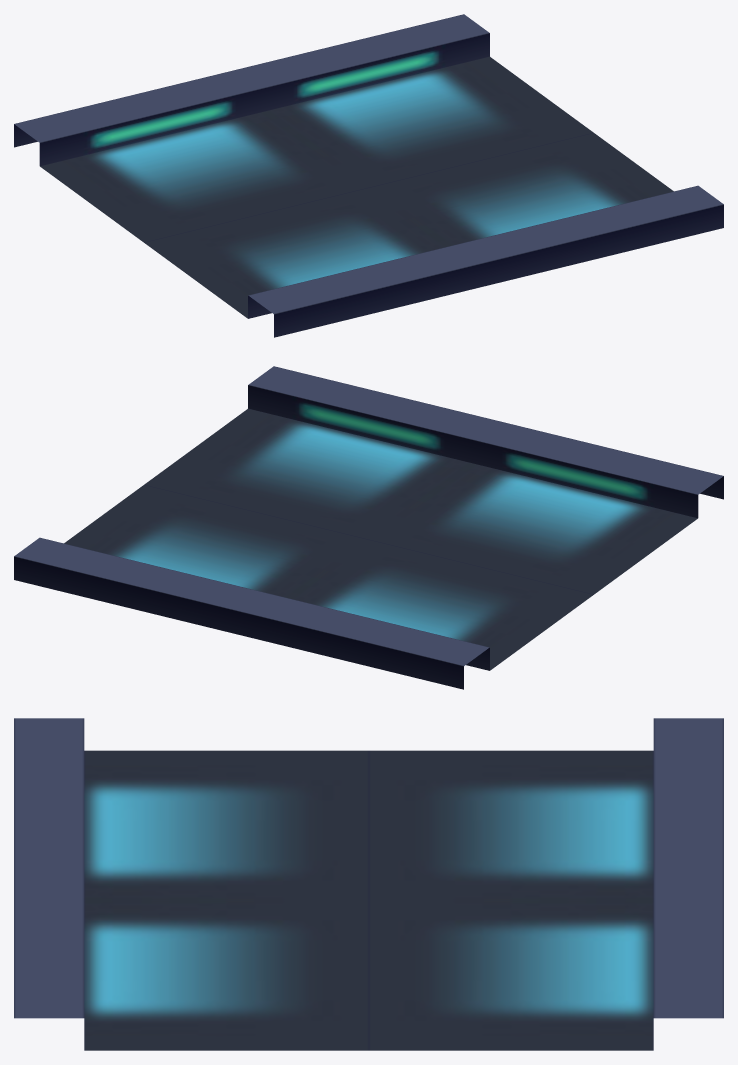
File: road01.FBX
3 renders of one model, top to bottom at view 1: azimuth 30°, elevation 25°; view 2: azimuth 150°, elevation 25°; view 3: azimuth 270°, elevation 25°, orthographic. The views are drawn at different scales.
Parts seen in each view (by area): view 1: Road01; view 2: Road01; view 3: Road01.
Boxes of the visible parts, bbox=[...] form: Road01: bbox=[14, 14, 723, 337]; Road01: bbox=[14, 366, 723, 689]; Road01: bbox=[14, 718, 723, 1050].
Size of the model in its own units: 1 by 1 by 0.05.
1 material, 1 textured.
